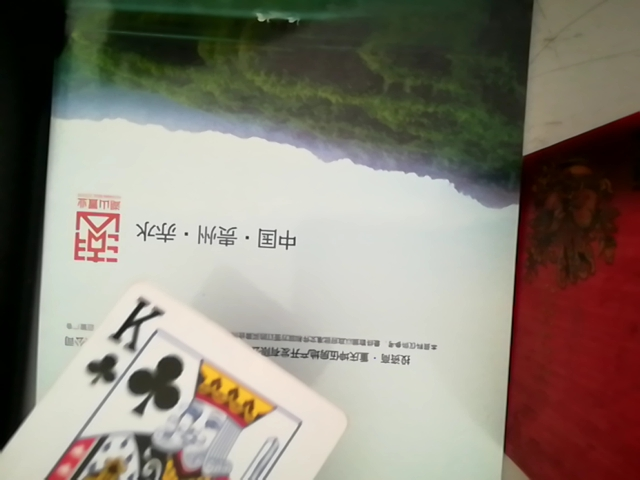mh k: (6, 268, 351, 480)
